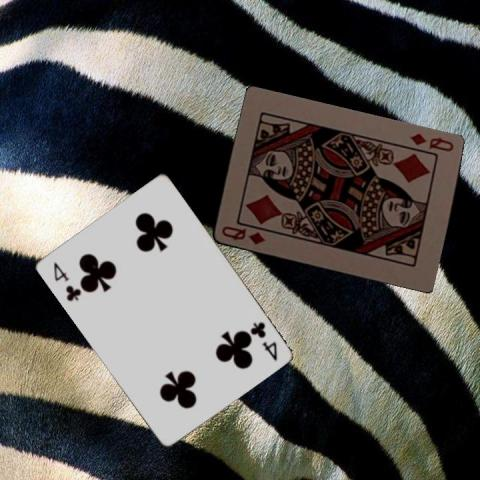4c: (50, 258, 82, 302), (246, 319, 278, 362)
Qd: (218, 223, 267, 247), (406, 130, 455, 153)
